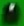black: (0, 0, 24, 26)
